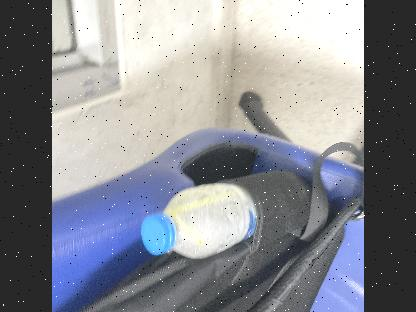Plastic Bottle: (138, 180, 260, 258)
